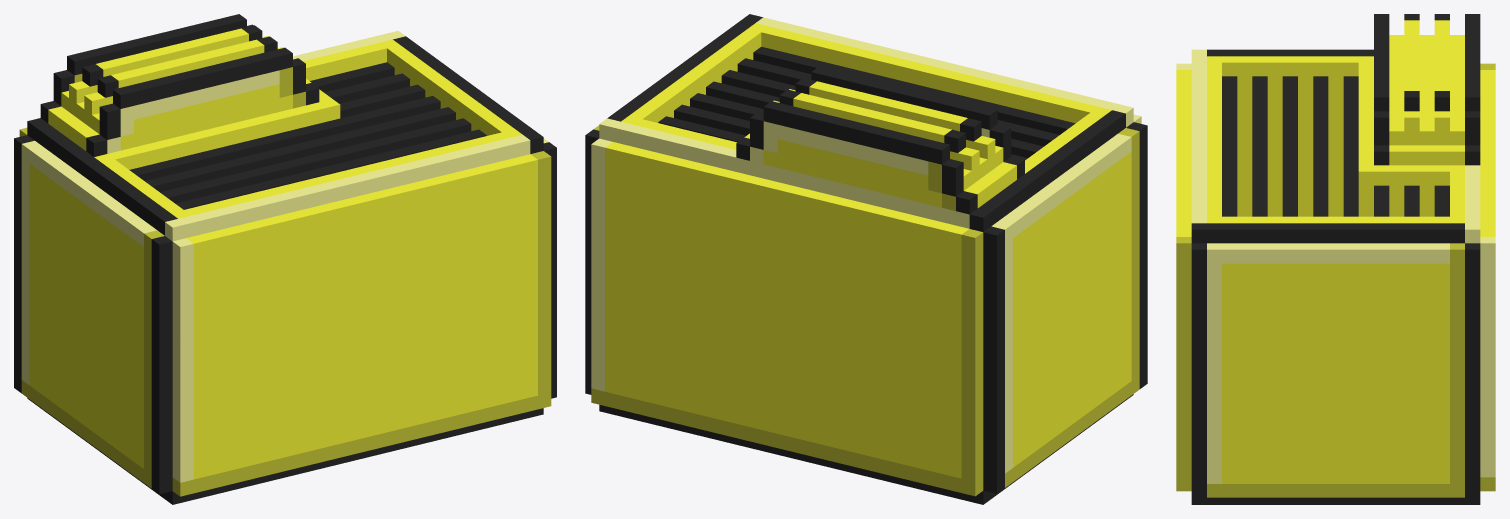
Rendered from Fold3d.fbx.
3 views of the same model, side by side, from view 1: azimuth 30°, elevation 25°; view 2: azimuth 150°, elevation 25°; view 3: azimuth 270°, elevation 25° (orthographic). The views are drawn at different scales.
Visible parts, largest first — view 1: Untitled.098, Untitled.097; view 2: Untitled.098, Untitled.097; view 3: Untitled.098, Untitled.097.
Part boxes in pixels (left/top/right/bottom): Untitled.098: left=19, top=28, right=551, bottom=496; Untitled.097: left=14, top=14, right=556, bottom=504; Untitled.098: left=591, top=17, right=1141, bottom=496; Untitled.097: left=585, top=14, right=1147, bottom=504; Untitled.098: left=1176, top=20, right=1495, bottom=497; Untitled.097: left=1191, top=14, right=1480, bottom=504.
Size of the model in its own units: 300 by 240 by 210.
Materials: 2 (2 with a texture image).
